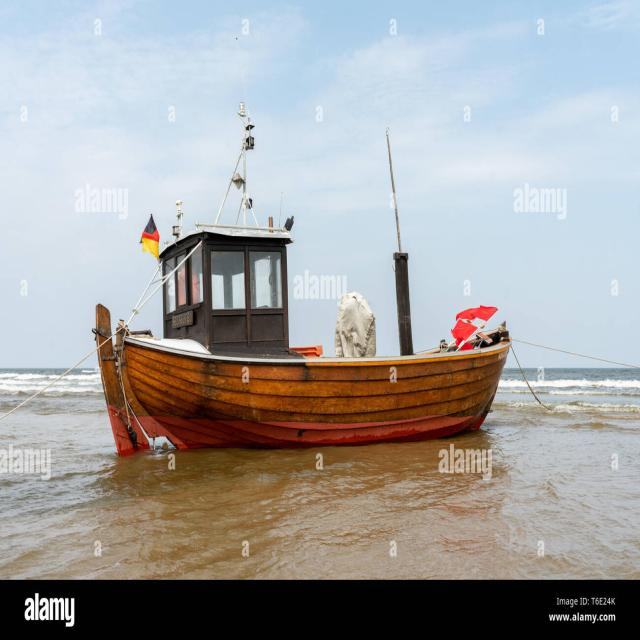Fishing Boat: (42, 173, 554, 475)
